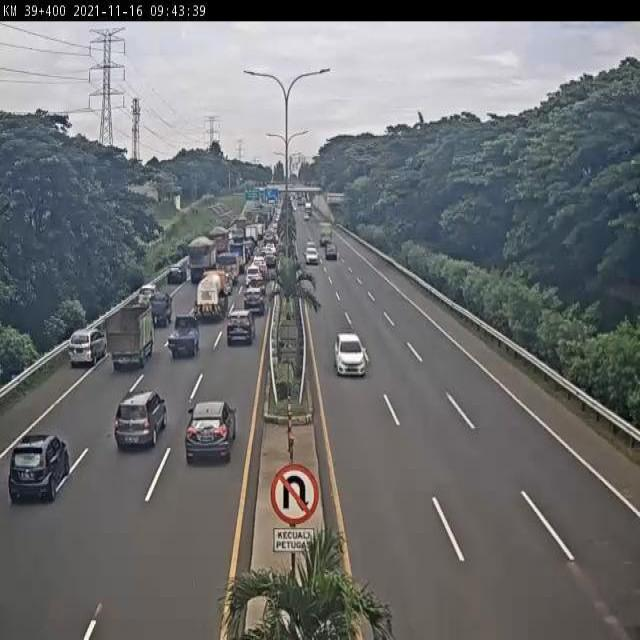car: (181, 393, 244, 476), (6, 432, 74, 508), (109, 385, 172, 456), (65, 327, 110, 372), (332, 331, 370, 381), (219, 304, 255, 352), (167, 315, 201, 360), (145, 293, 175, 327), (241, 287, 266, 317), (134, 284, 156, 309), (165, 265, 188, 288), (244, 263, 264, 285), (248, 275, 269, 293), (304, 245, 321, 267), (324, 241, 337, 263), (252, 253, 267, 272), (264, 251, 278, 268)
small truck: (215, 249, 242, 287)
truck-l-: (185, 235, 219, 285), (207, 225, 229, 258)
truck-m-: (102, 305, 155, 372), (195, 269, 232, 324)
